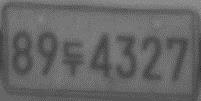2: (142, 35, 162, 82)
3: (113, 33, 137, 79)
4: (89, 34, 113, 78)
7: (164, 35, 189, 81)
8: (11, 30, 33, 77)
9: (36, 30, 59, 78)
두: (61, 39, 84, 77)
